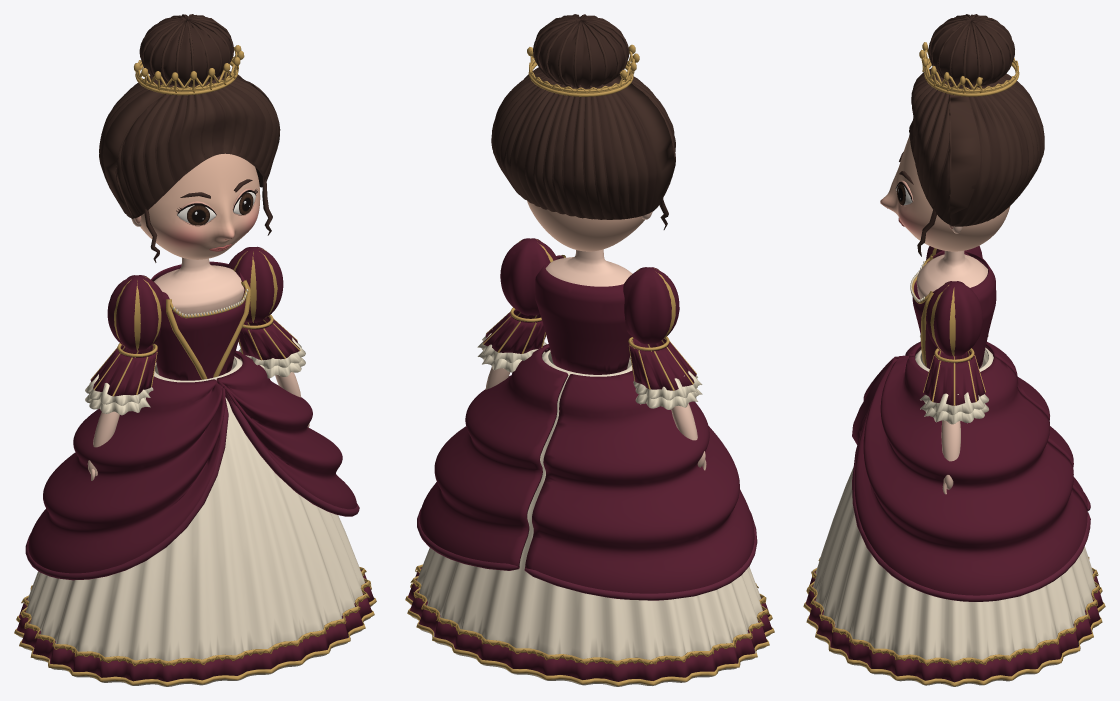
File: duchess.glb
3 views of the same model, side by side, from view 1: azimuth 30°, elevation 25°; view 2: azimuth 150°, elevation 25°; view 3: azimuth 270°, elevation 25° (orthographic). The views are drawn at different scales.
Visible parts, largest first — view 1: Runtime / Dress • full sculpted ivory underskirt, Runtime / Dress • thick gathered velvet swag.001, Runtime / Dress • thick gathered velvet swag, Runtime / Sculpt • continuous cheeks, sockets, nose and chin, Runtime / Dress • Velvet hem, Runtime / Dress • fitted pointed velvet corset, Runtime / Hair • gathered high bun, Runtime / Sculpt • neck and collarbones, Runtime / Sleeve • lobed velvet puff.001, Runtime / Hair • sculpted swept pompadour, Runtime / Sleeve • lobed velvet puff, Runtime / Sleeve • flared velvet lower cuff.001 (+24 smaller); view 2: Runtime / Dress • thick gathered velvet swag.001, Runtime / Dress • full sculpted ivory underskirt, Runtime / Dress • thick gathered velvet swag, Runtime / Dress • fitted pointed velvet corset, Runtime / Dress • Velvet hem, Runtime / Hair • gathered high bun, Runtime / Hair • sculpted swept pompadour, Runtime / Sleeve • lobed velvet puff.001, Runtime / Sculpt • continuous cheeks, sockets, nose and chin, Runtime / Sleeve • lobed velvet puff, Runtime / Hair • swept ribbon lock.033, Runtime / Sleeve • flared velvet lower cuff.001 (+26 smaller); view 3: Runtime / Dress • thick gathered velvet swag, Runtime / Dress • full sculpted ivory underskirt, Runtime / Dress • Velvet hem, Runtime / Sculpt • continuous cheeks, sockets, nose and chin, Runtime / Hair • gathered high bun, Runtime / Sleeve • lobed velvet puff, Runtime / Hair • swept ribbon lock.010, Runtime / Hair • sculpted swept pompadour, Runtime / Sleeve • flared velvet lower cuff, Runtime / Dress • rolled velvet selvedge, Runtime / Sculpt • neck and collarbones, Runtime / Dress • fitted pointed velvet corset (+19 smaller).
Part boxes in pixels (x1,y1,x2,y2): Runtime / Dress • full sculpted ivory underskirt: (18, 356, 372, 686); Runtime / Dress • thick gathered velvet swag.001: (28, 376, 225, 573); Runtime / Dress • thick gathered velvet swag: (216, 350, 356, 509); Runtime / Sculpt • continuous cheeks, sockets, nose and chin: (140, 153, 260, 259); Runtime / Dress • Velvet hem: (17, 570, 373, 681); Runtime / Dress • fitted pointed velvet corset: (151, 261, 245, 380); Runtime / Hair • gathered high bun: (140, 14, 232, 85); Runtime / Sculpt • neck and collarbones: (154, 257, 244, 314); Runtime / Sleeve • lobed velvet puff.001: (107, 275, 162, 350); Runtime / Hair • sculpted swept pompadour: (100, 75, 276, 218); Runtime / Sleeve • lobed velvet puff: (227, 246, 283, 322); Runtime / Sleeve • flared velvet lower cuff.001: (90, 345, 157, 396); Runtime / Dress • thick gathered velvet swag.001: (525, 370, 754, 593); Runtime / Dress • full sculpted ivory underskirt: (409, 350, 770, 686); Runtime / Dress • thick gathered velvet swag: (419, 344, 568, 567); Runtime / Dress • fitted pointed velvet corset: (535, 255, 632, 374); Runtime / Dress • Velvet hem: (408, 567, 771, 681); Runtime / Hair • gathered high bun: (534, 14, 628, 88); Runtime / Hair • sculpted swept pompadour: (497, 76, 668, 219); Runtime / Sleeve • lobed velvet puff.001: (623, 267, 679, 344); Runtime / Sculpt • continuous cheeks, sockets, nose and chin: (527, 200, 644, 251); Runtime / Sleeve • lobed velvet puff: (500, 238, 557, 315); Runtime / Hair • swept ribbon lock.033: (610, 75, 675, 211); Runtime / Sleeve • flared velvet lower cuff.001: (628, 338, 696, 390); Runtime / Dress • thick gathered velvet swag: (854, 356, 1087, 595); Runtime / Dress • full sculpted ivory underskirt: (807, 347, 1101, 686); Runtime / Dress • Velvet hem: (805, 571, 1103, 682); Runtime / Sculpt • continuous cheeks, sockets, nose and chin: (880, 136, 1010, 251); Runtime / Hair • gathered high bun: (930, 14, 1014, 87); Runtime / Sleeve • lobed velvet puff: (926, 281, 982, 356); Runtime / Hair • swept ribbon lock.010: (949, 82, 980, 225); Runtime / Hair • sculpted swept pompadour: (909, 77, 1040, 226); Runtime / Sleeve • flared velvet lower cuff: (923, 350, 985, 405); Runtime / Dress • rolled velvet selvedge: (852, 379, 1090, 601); Runtime / Sculpt • neck and collarbones: (916, 251, 987, 298); Runtime / Dress • fitted pointed velvet corset: (912, 251, 996, 368).
Size of the model in its own units: 0.9219 by 1.6 by 0.7381.
